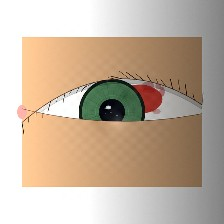hemorrhage_spot: (107, 74, 171, 125)
